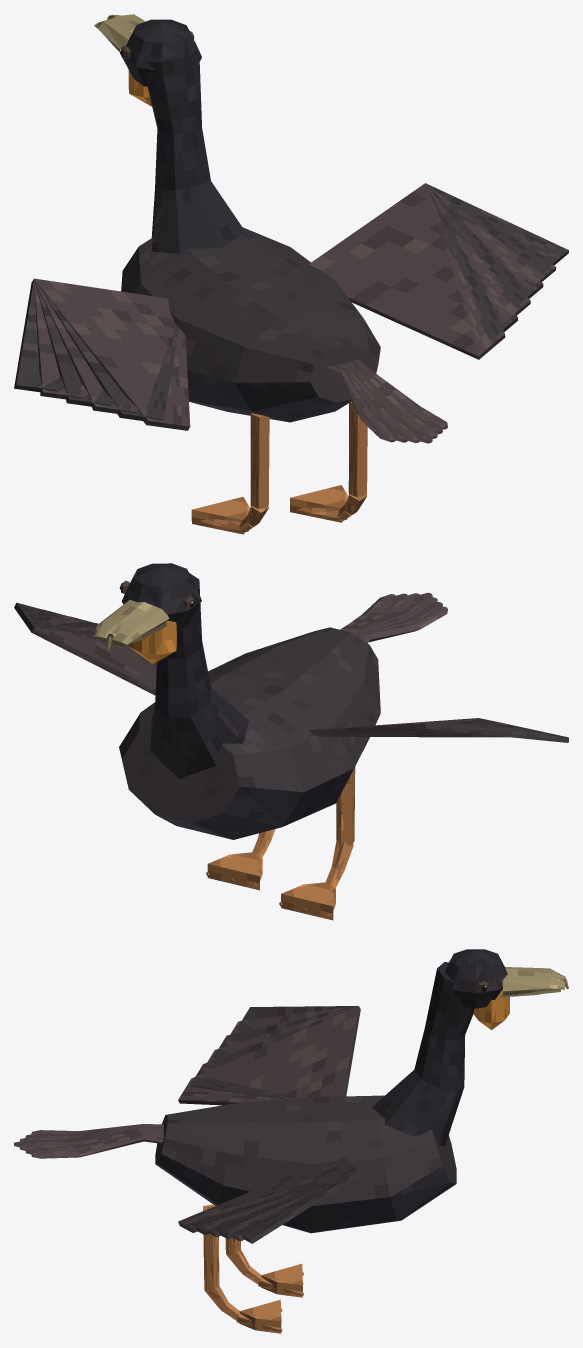
Rendered from mon_cormorant.glb.
3 views of the same model, one above another, from view 1: azimuth 30°, elevation 25°; view 2: azimuth 150°, elevation 25°; view 3: azimuth 270°, elevation 25° (orthographic). The views are drawn at different scales.
Visible parts, largest first — view 1: closed_body; view 2: closed_body; view 3: closed_body.
Part boxes in pixels (box(x1,y1,x2,y2)): closed_body: box(14, 14, 568, 534); closed_body: box(14, 563, 568, 920); closed_body: box(14, 949, 568, 1333).
Size of the model in its own units: 0.5915 by 0.4189 by 0.594.
1 material, 1 textured.
